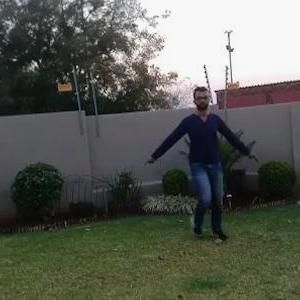land: (148, 94, 245, 222)
